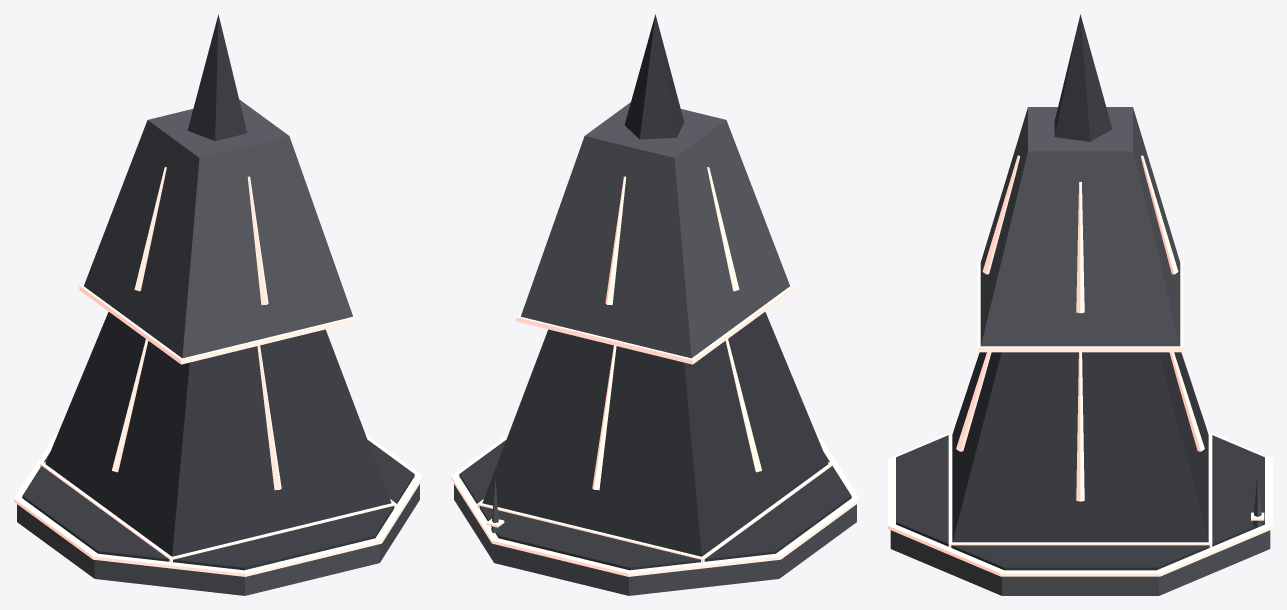
The model's file is zone_high_5_t1.glb.
The picture shows the model from 3 angles, left to right: view 1: azimuth 30°, elevation 25°; view 2: azimuth 150°, elevation 25°; view 3: azimuth 270°, elevation 25°; orthographic projection.
Visible parts, largest first — view 1: zone_high_5_t1; view 2: zone_high_5_t1; view 3: zone_high_5_t1.
Boxes of the visible parts, bbox=[...] form: zone_high_5_t1: bbox=[14, 14, 422, 595]; zone_high_5_t1: bbox=[451, 14, 859, 595]; zone_high_5_t1: bbox=[888, 14, 1272, 595].
Bounding box in the file's own units: 27.35 × 39.36 × 27.35.
